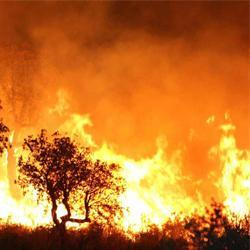fire: (122, 164, 161, 225), (225, 147, 249, 210), (6, 198, 45, 226)
